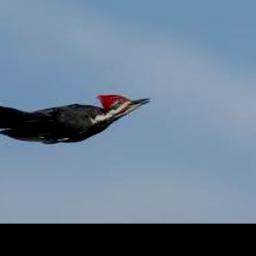Woodpecker: (0, 94, 149, 142)
